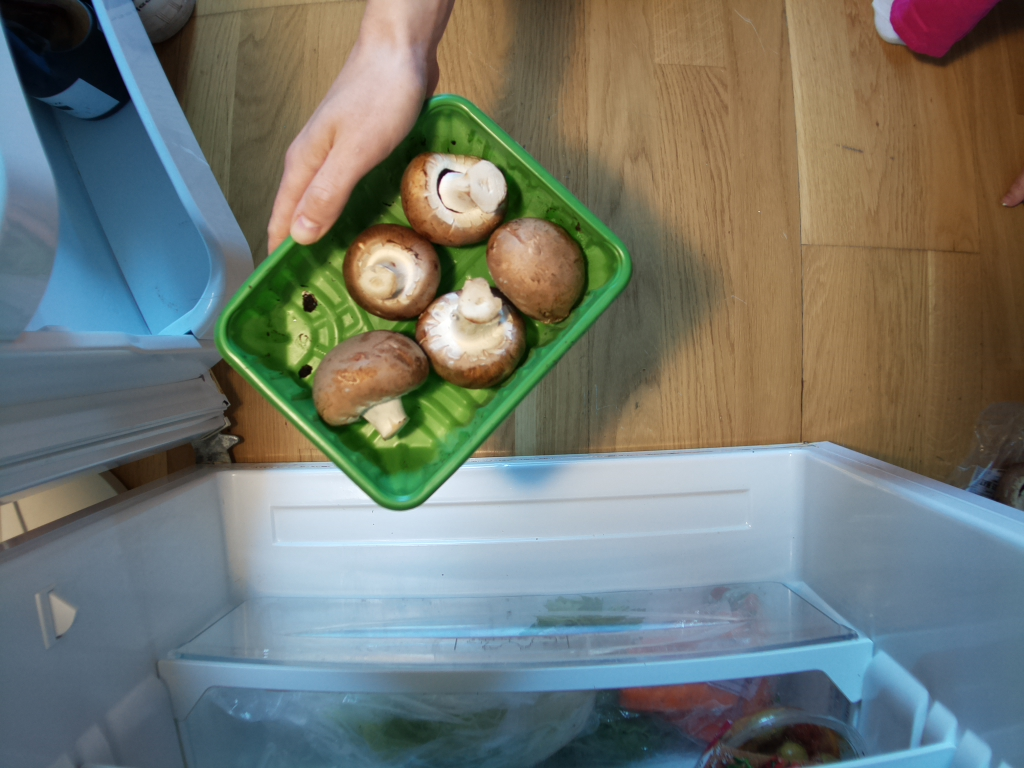mushrooms: (218, 88, 636, 521)
